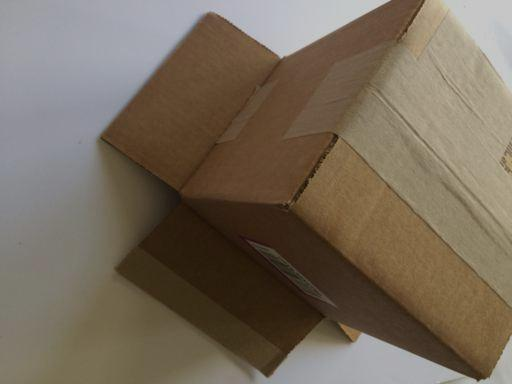cardboard: (97, 6, 511, 380)
